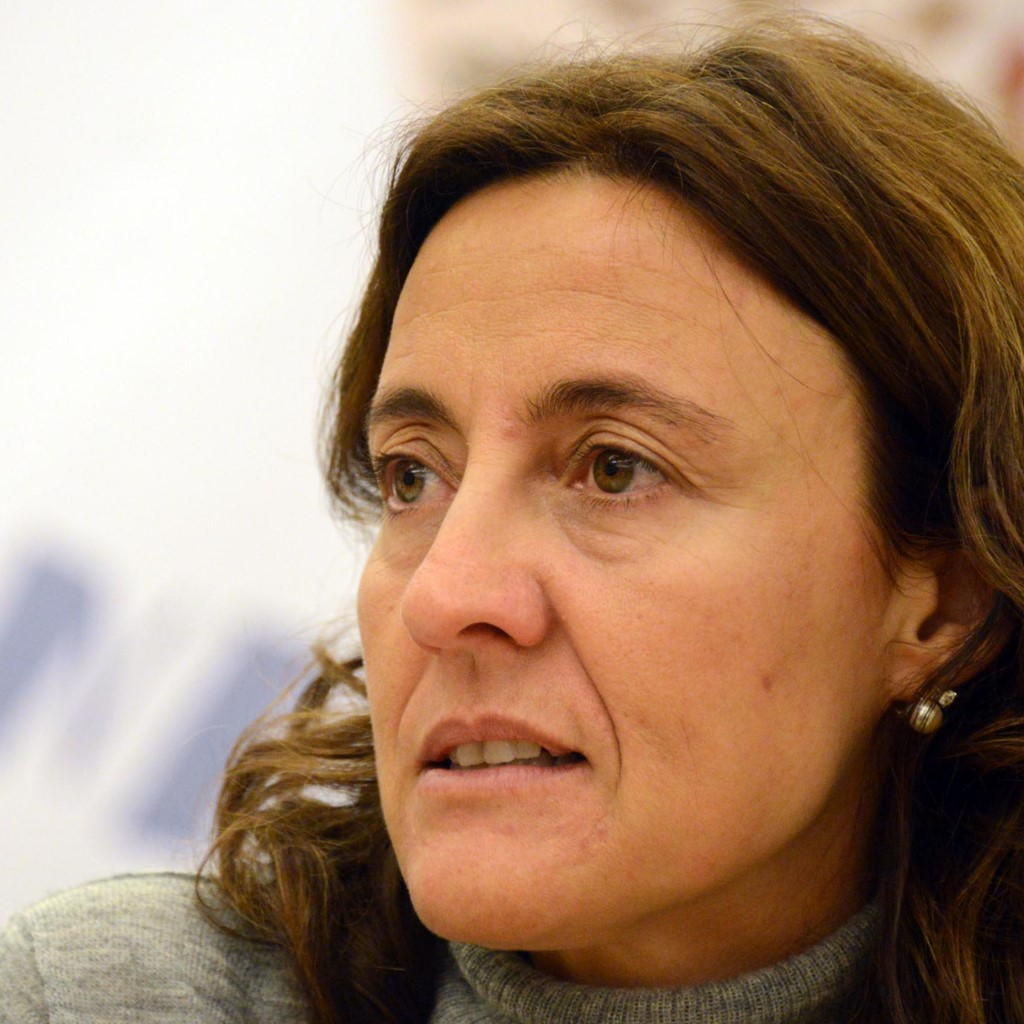sin_mascara: (344, 164, 919, 944)
